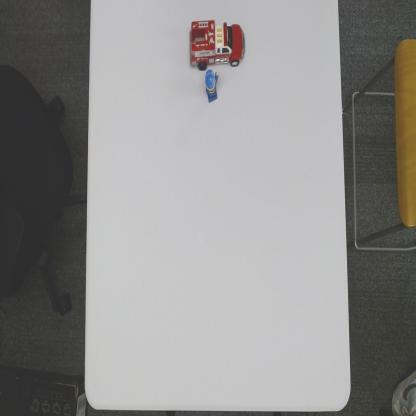Firetruck: (188, 20, 246, 71)
